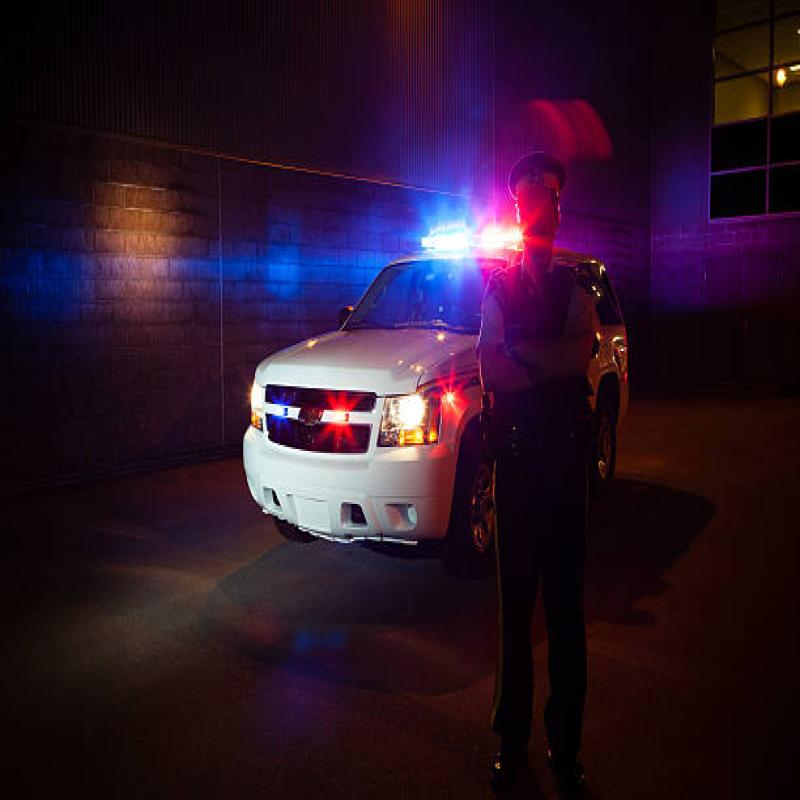AmbulanceSiren: (384, 202, 502, 261)
